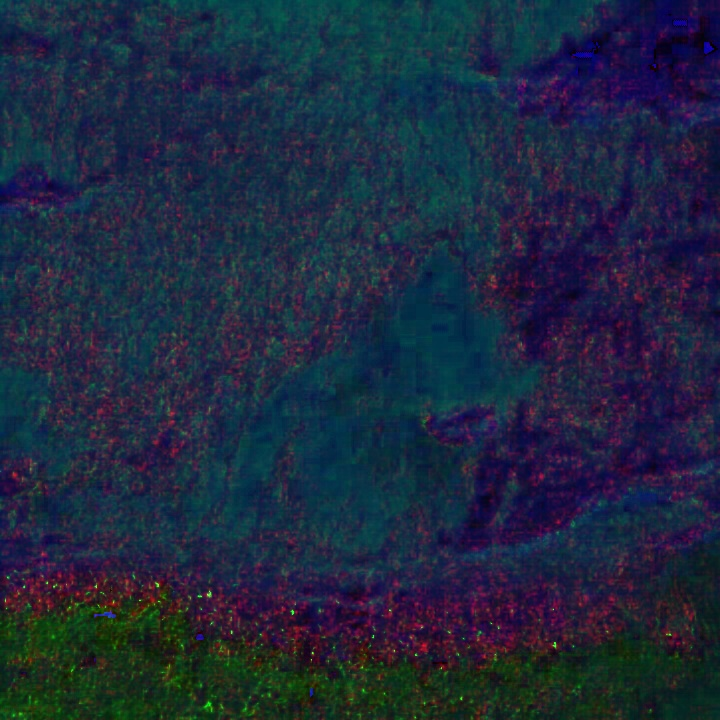rip_current: (215, 173, 536, 550)
